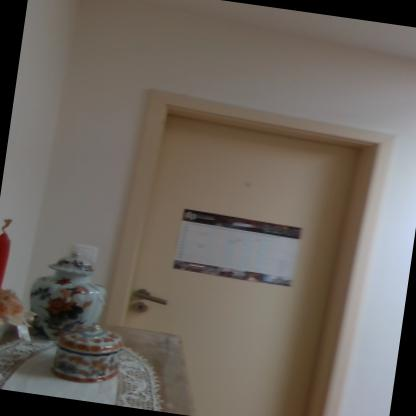closed: (78, 68, 412, 415)
